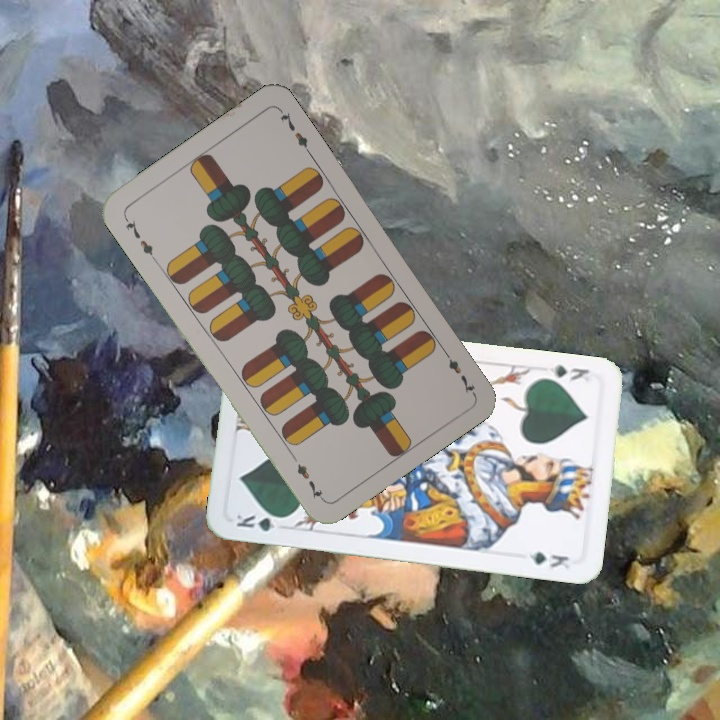E7: (438, 344, 478, 397), (120, 212, 159, 264)
GK: (232, 510, 290, 534), (546, 360, 592, 384)
